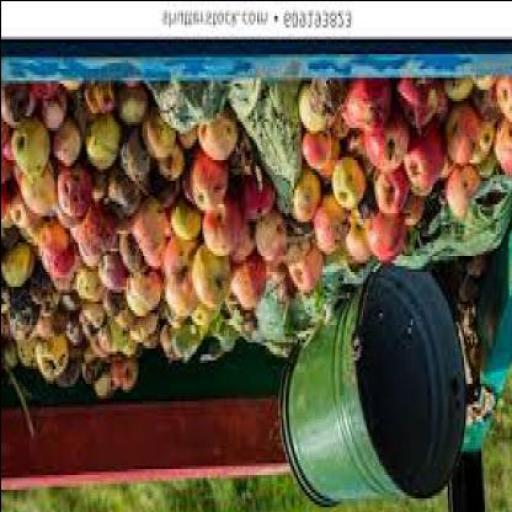biodegradable: (385, 170, 510, 274), (226, 80, 297, 188), (243, 276, 339, 348), (452, 256, 491, 383), (146, 80, 223, 132), (125, 200, 170, 271), (359, 115, 408, 177), (188, 238, 230, 310), (401, 124, 441, 198), (163, 241, 203, 315), (9, 156, 56, 218), (339, 82, 392, 136), (295, 80, 346, 132), (88, 174, 140, 224), (198, 198, 240, 259), (441, 156, 481, 220), (6, 118, 46, 182), (129, 206, 166, 270), (396, 82, 442, 133), (116, 127, 151, 194), (309, 194, 346, 256), (441, 109, 478, 170), (55, 168, 90, 232), (362, 212, 404, 264), (194, 112, 238, 161), (316, 253, 367, 295), (68, 216, 112, 264), (72, 214, 110, 268), (82, 118, 117, 176), (228, 255, 263, 312), (188, 156, 222, 214), (136, 106, 173, 159), (1, 288, 37, 342), (328, 156, 362, 212), (37, 224, 73, 276), (367, 167, 408, 212), (31, 333, 67, 382), (282, 250, 322, 294), (122, 274, 159, 320), (202, 318, 236, 368), (118, 136, 147, 194), (8, 188, 36, 248), (0, 86, 36, 132), (237, 176, 271, 224), (46, 250, 80, 298), (250, 216, 282, 264), (1, 239, 31, 289), (469, 118, 498, 168), (168, 317, 200, 362), (290, 176, 319, 224), (164, 204, 203, 238), (343, 221, 371, 268), (28, 268, 54, 318), (351, 182, 378, 230), (279, 226, 307, 271), (226, 220, 254, 265), (65, 91, 85, 153), (50, 123, 79, 165), (394, 194, 426, 232), (106, 174, 138, 212), (151, 151, 186, 185), (35, 91, 63, 133), (96, 318, 124, 360), (116, 236, 145, 274), (94, 256, 123, 294), (79, 86, 113, 118), (491, 123, 510, 180), (106, 356, 136, 391), (156, 318, 178, 365), (185, 297, 219, 327), (30, 312, 64, 342), (224, 142, 252, 176), (300, 132, 325, 170), (325, 103, 349, 141), (114, 92, 142, 124), (76, 271, 104, 303), (491, 77, 510, 124), (465, 86, 494, 115), (23, 82, 58, 106), (76, 306, 102, 338), (318, 136, 336, 182), (342, 129, 369, 159), (127, 315, 152, 347), (88, 366, 110, 400), (111, 300, 134, 332), (441, 80, 475, 100), (79, 351, 99, 385), (55, 362, 78, 391), (264, 259, 286, 289), (85, 335, 107, 365), (111, 214, 140, 236), (13, 342, 35, 371), (62, 318, 86, 344), (273, 276, 293, 304), (88, 174, 104, 209), (154, 185, 176, 209), (0, 185, 11, 230), (114, 332, 130, 360), (57, 82, 81, 98), (158, 309, 180, 326), (54, 295, 76, 312), (2, 343, 12, 378), (117, 339, 134, 359), (436, 156, 450, 180), (173, 136, 193, 152), (118, 80, 138, 94)
metal: (273, 262, 464, 511)
